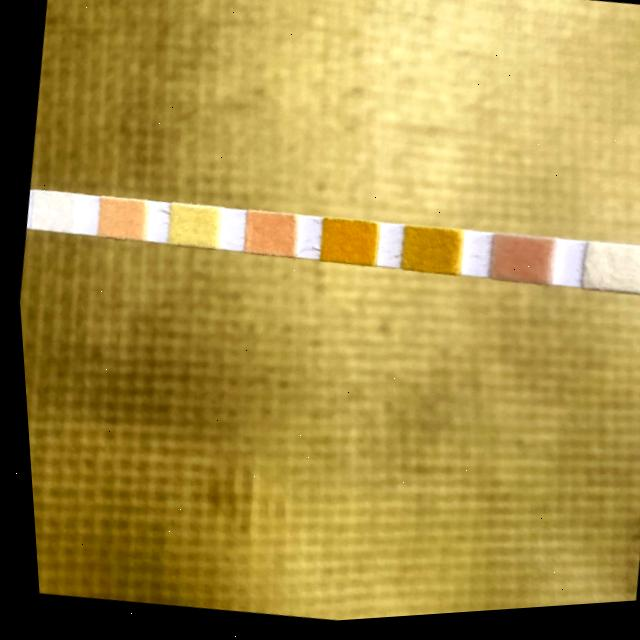Bilirubin: (576, 247, 640, 303)
Blood: (316, 221, 373, 270)
Ketone: (484, 238, 549, 293)
Nitrite: (26, 188, 73, 234)
Protein: (163, 203, 216, 251)
SpGravity: (396, 230, 456, 281)
Urobilinogen: (92, 196, 143, 242)
pH: (239, 211, 294, 261)
